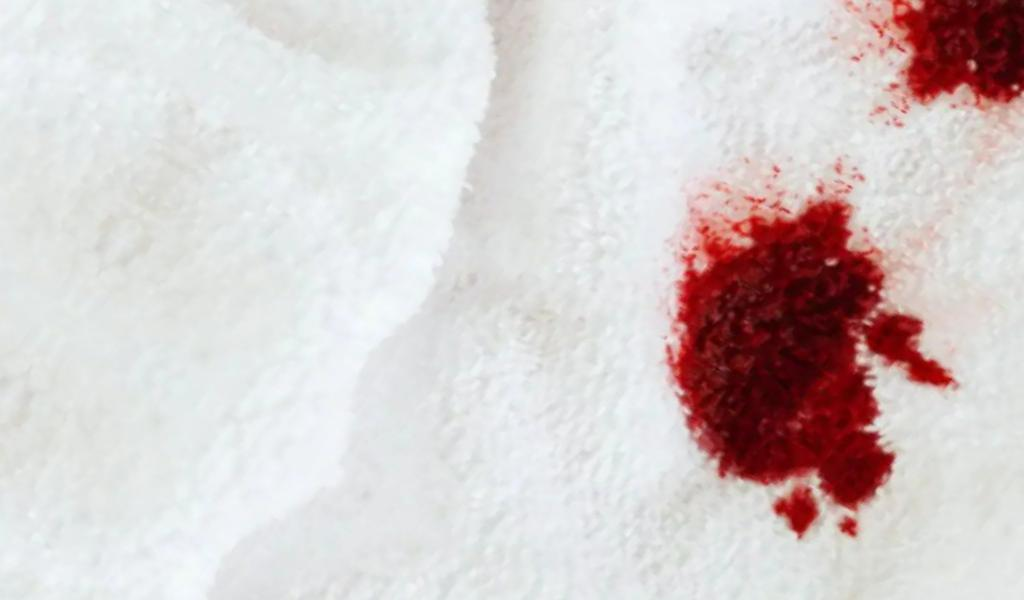stain: (664, 158, 963, 550), (832, 1, 1024, 125)
